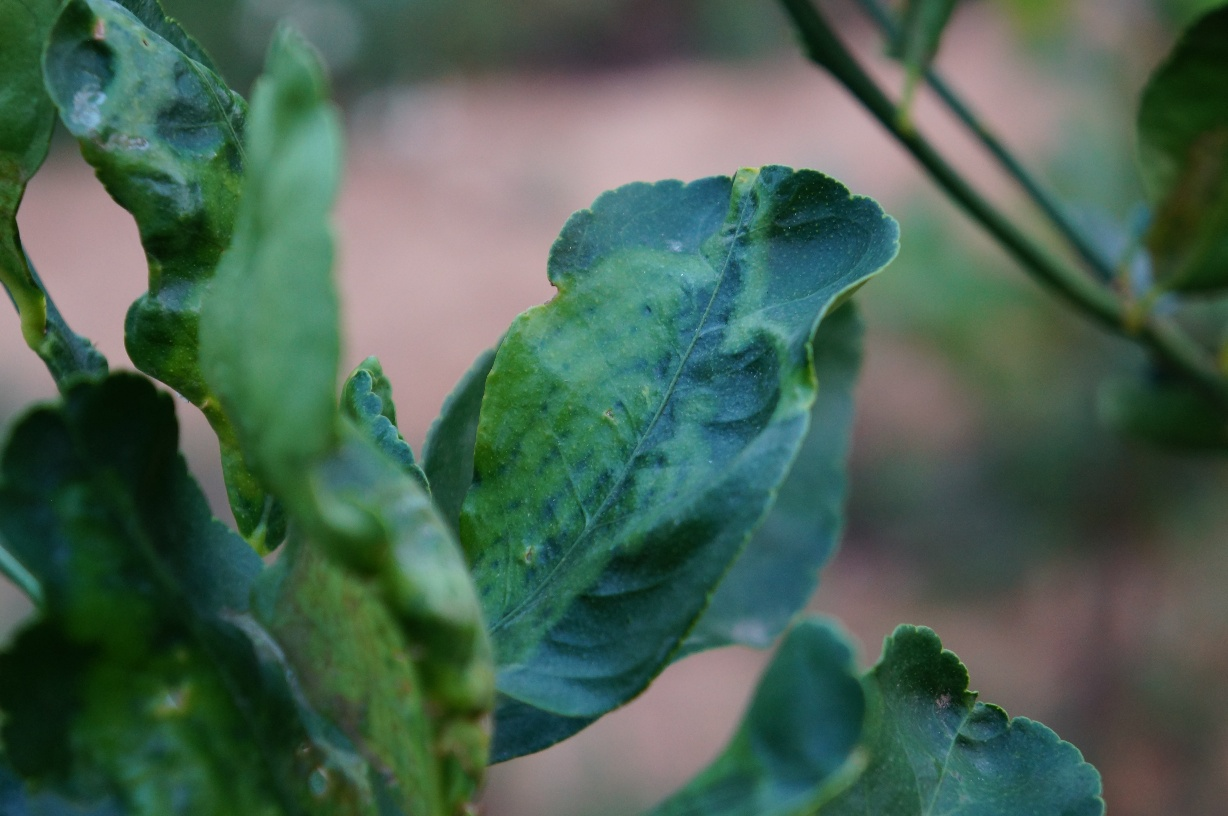damage: (461, 227, 726, 672)
